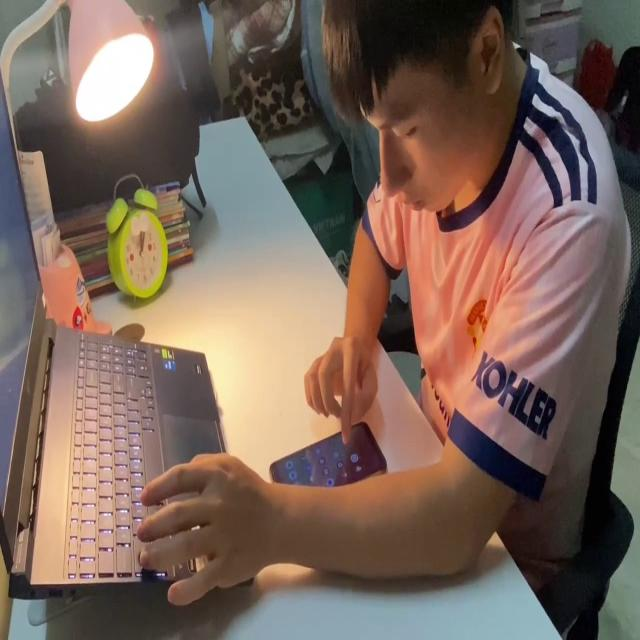laptop: (0, 53, 256, 592)
phone: (262, 412, 392, 488)
student: (133, 0, 633, 630)
